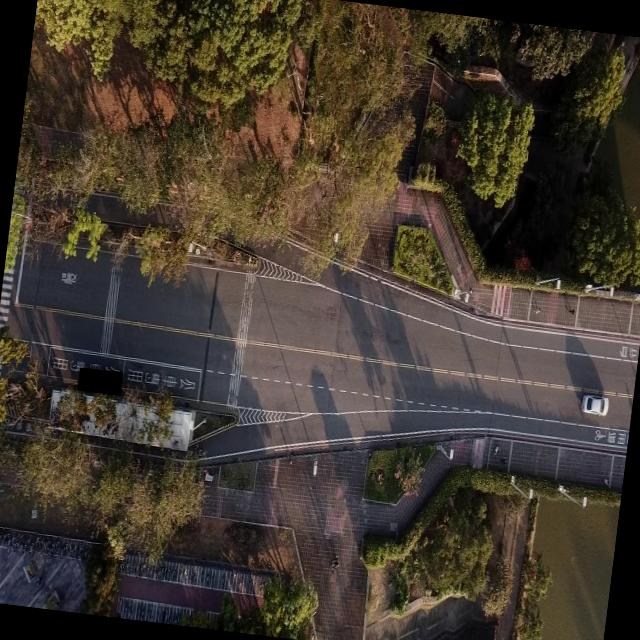car: (579, 392, 607, 417)
